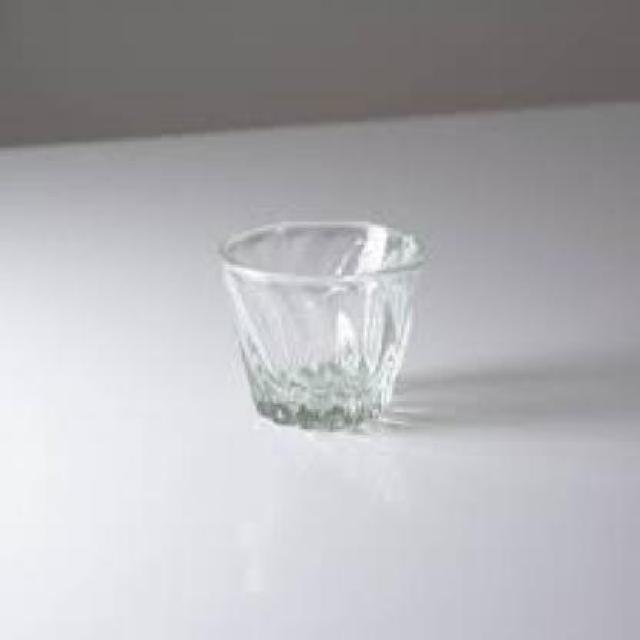kaca: (217, 217, 421, 428)
